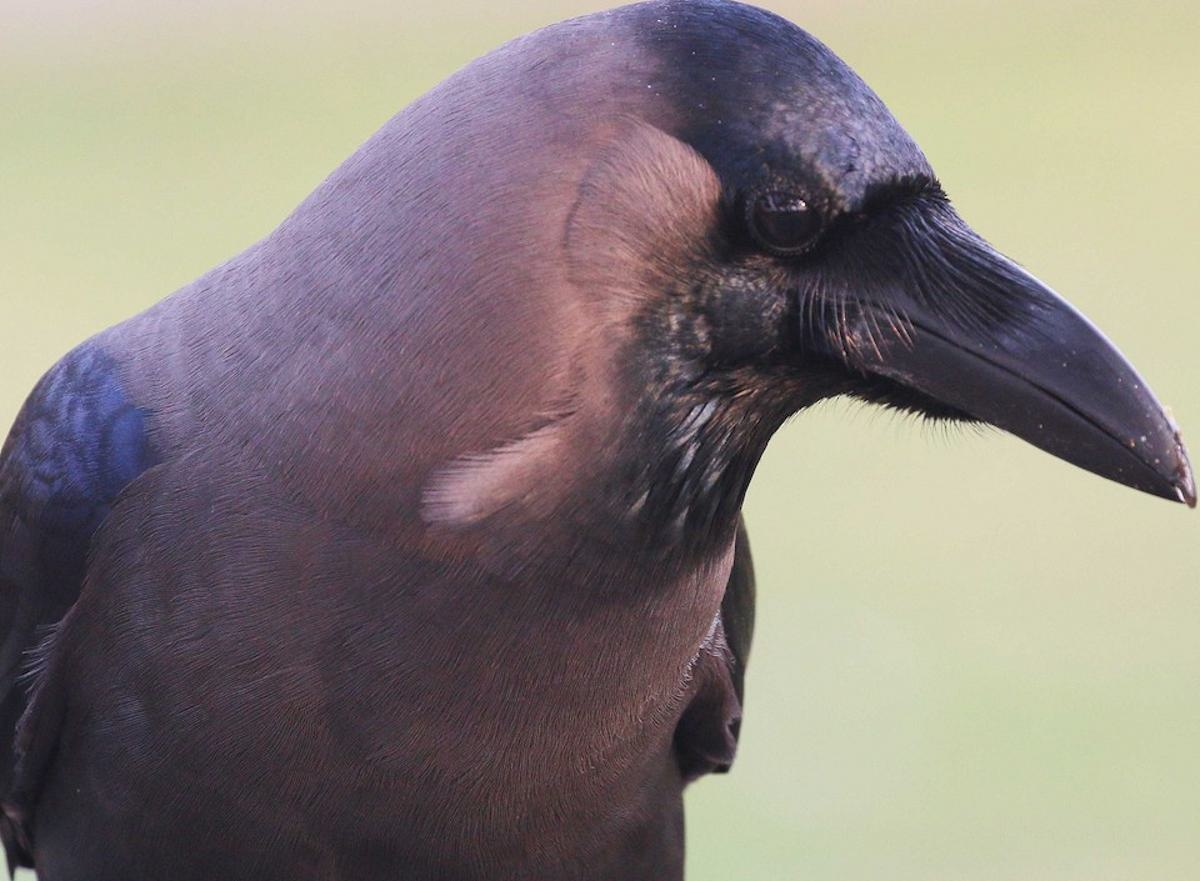crow: (4, 1, 1200, 878)
